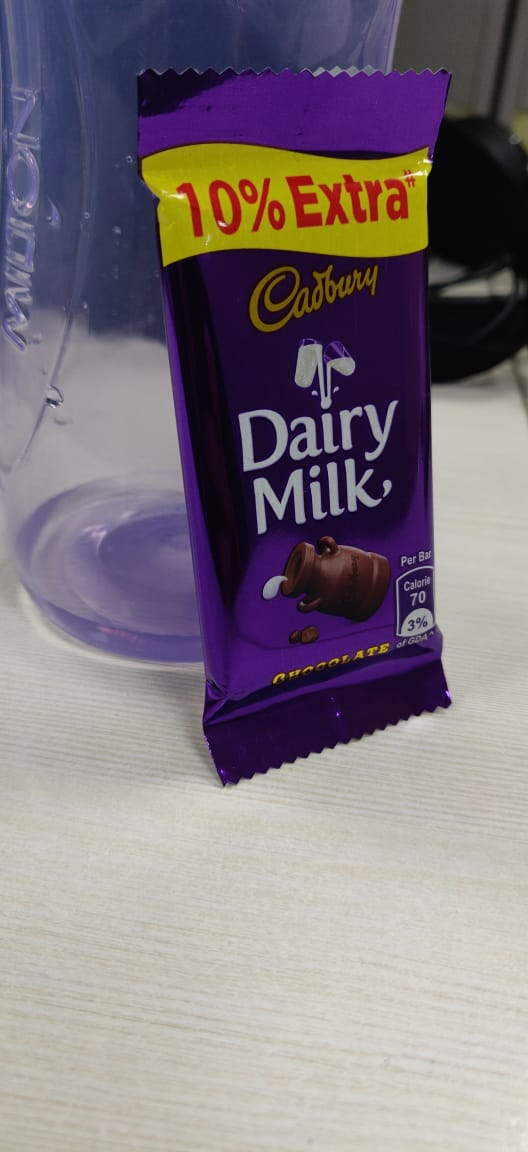dairy milk: (122, 55, 480, 788)
